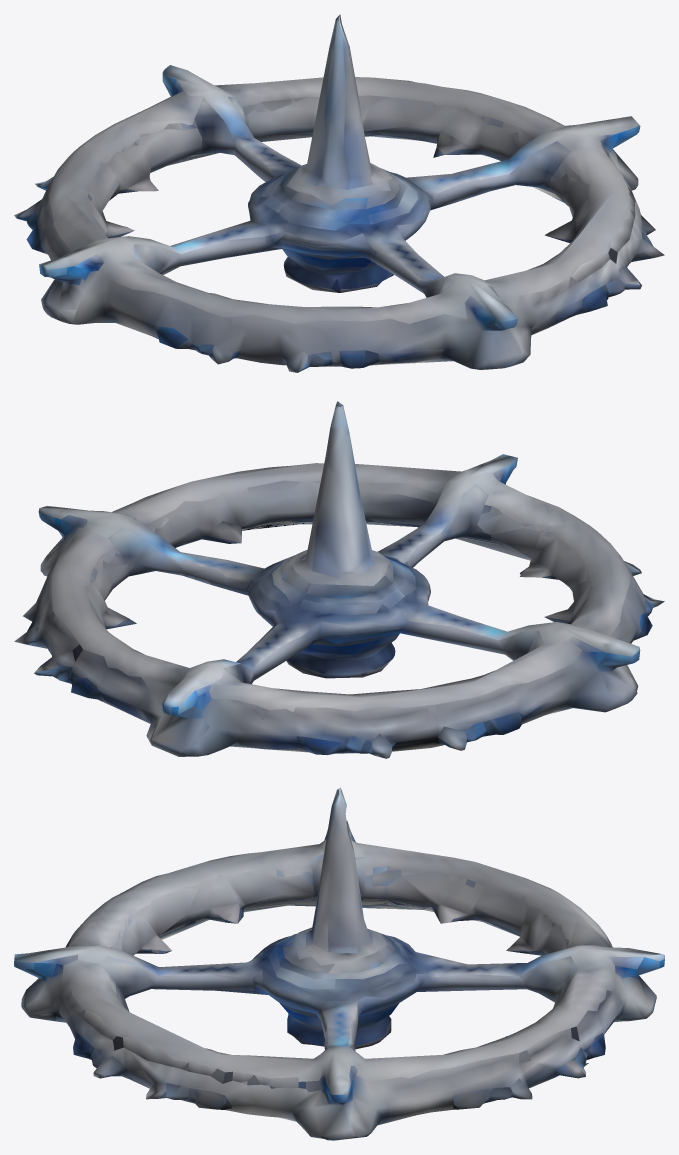
Rendered from alliance_starbase_lod2.glb.
3 renders of one model, top to bottom at view 1: azimuth 30°, elevation 25°; view 2: azimuth 150°, elevation 25°; view 3: azimuth 270°, elevation 25°, orthographic. The views are drawn at different scales.
Visible parts, largest first — view 1: model; view 2: model; view 3: model.
Part boxes in pixels (left/top/right/bottom): model: left=14, top=14, right=664, bottom=372; model: left=14, top=401, right=664, bottom=758; model: left=14, top=787, right=664, bottom=1140.
Bounding box in the file's own units: 1.87 × 0.7796 × 1.87.
1 material, 1 textured.
